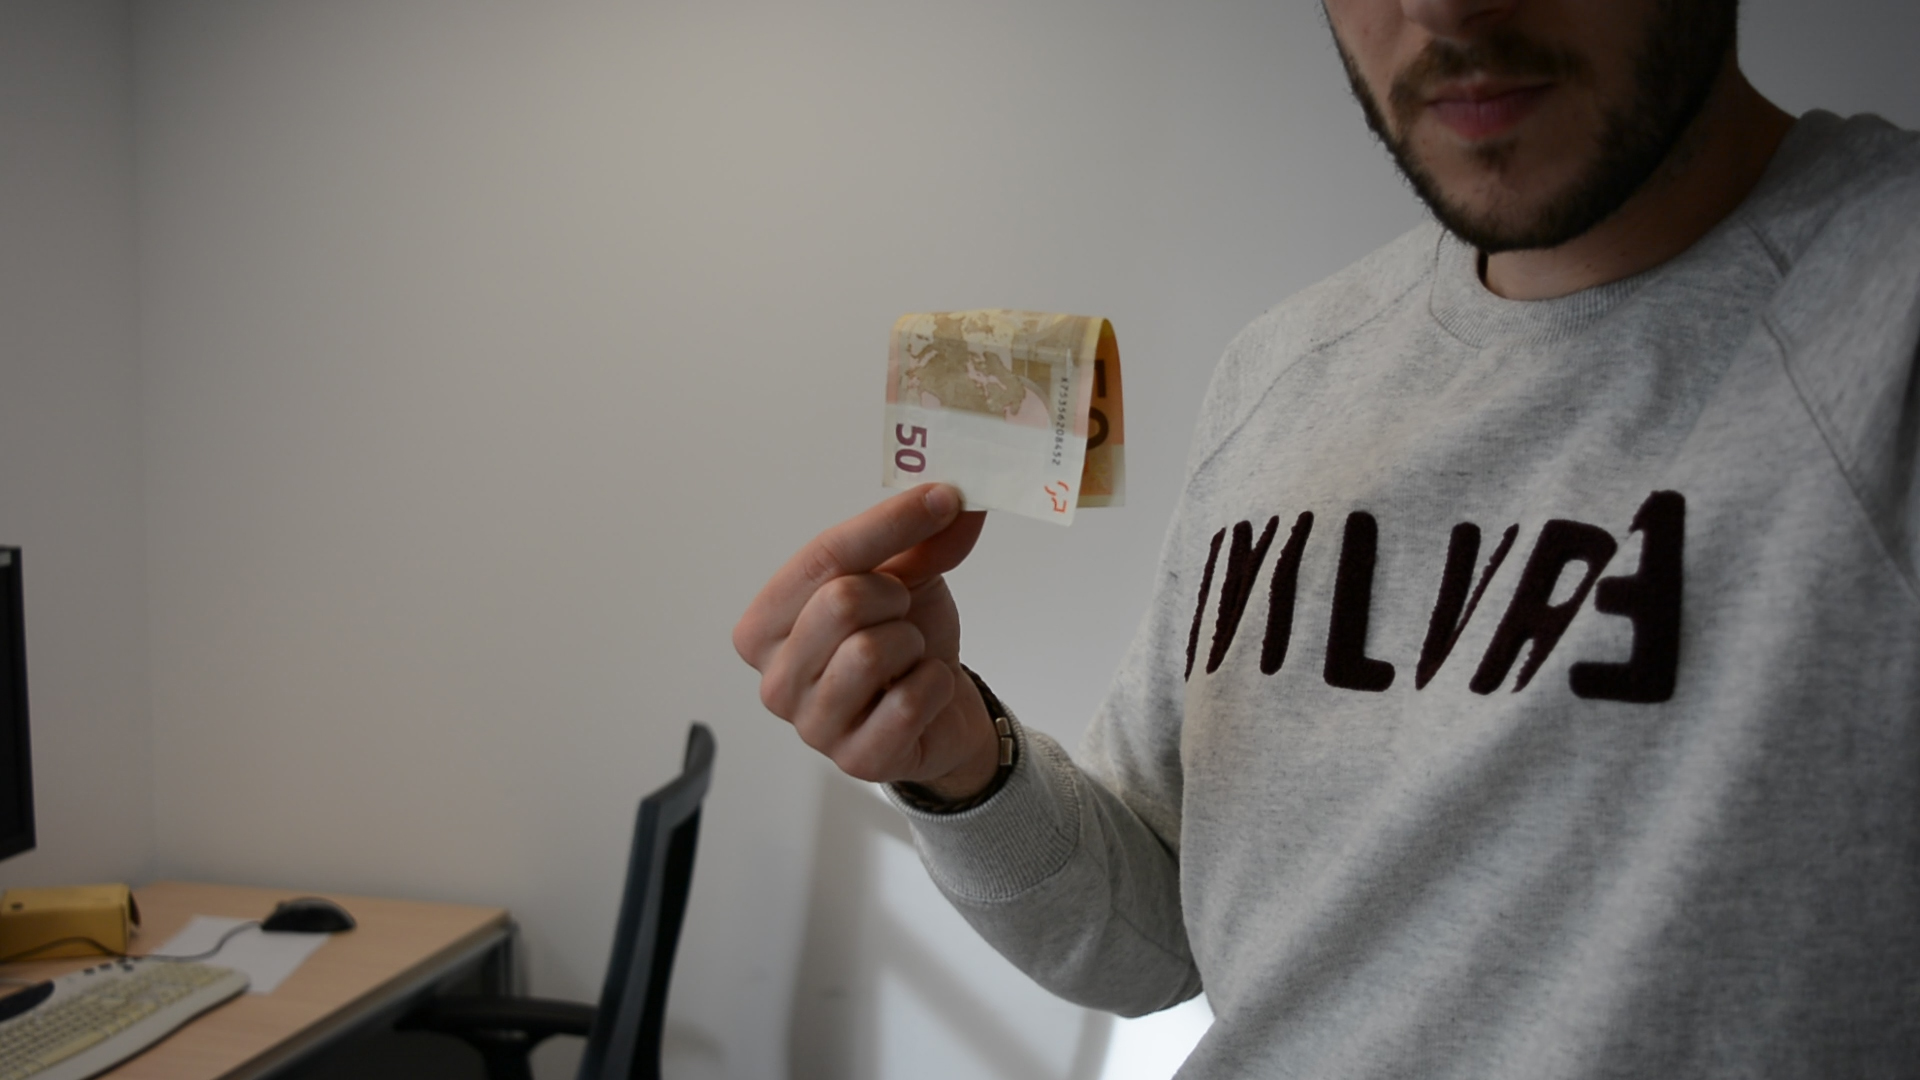billete: (878, 305, 1133, 527)
